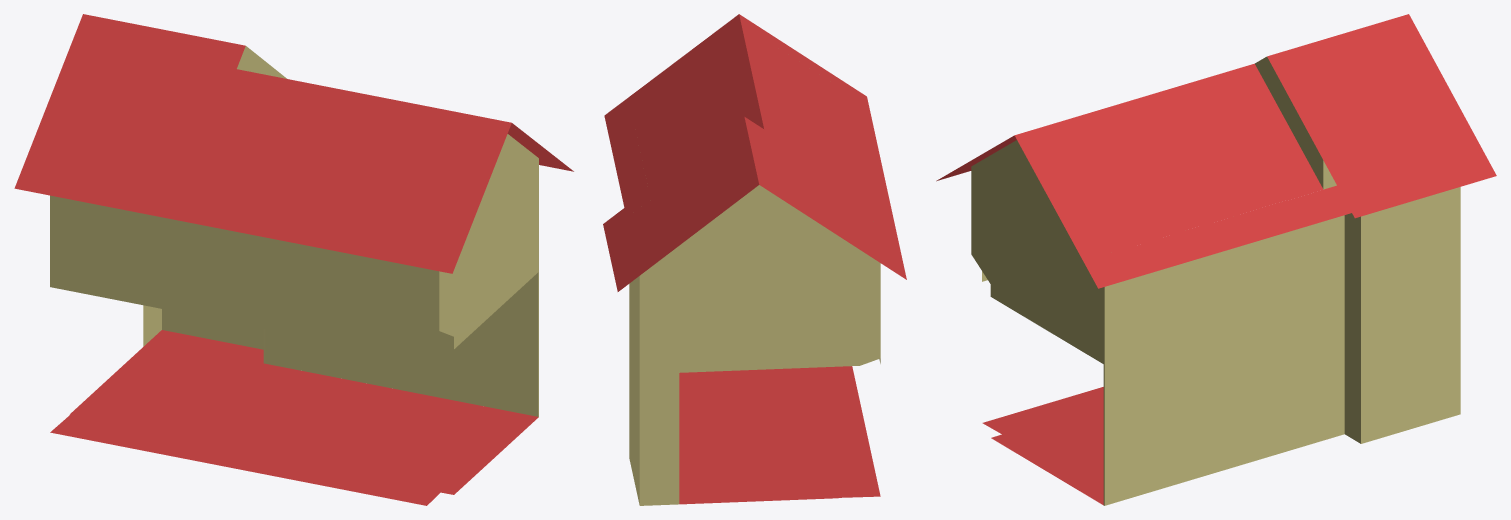
3 renders of one model, left to right at view 1: azimuth 30°, elevation 25°; view 2: azimuth 150°, elevation 25°; view 3: azimuth 270°, elevation 25°, orthographic. The views are drawn at different scales.
Visible parts, largest first — view 1: group_3, group_5, group_6, group_9, group_4, group_10, group_7; view 2: group_5, group_3, group_6, group_7, group_4, group_10, group_8; view 3: group_9, group_7, group_5, group_3, group_6, group_10, group_4, group_8.
Part boxes in pixels (x1,y1,x2,y2): group_3: (14,15,510,270); group_5: (50,46,487,367); group_6: (50,330,487,505); group_9: (288,134,538,417); group_4: (15,14,511,273); group_10: (237,368,538,463); group_7: (507,123,573,171); group_5: (629,185,880,505); group_3: (603,24,906,291); group_6: (679,366,880,504); group_7: (604,14,763,207); group_4: (603,14,906,279); group_10: (679,370,763,445); group_8: (609,16,739,113); group_9: (1035,174,1323,505); group_7: (1014,63,1351,288); group_5: (971,56,1460,443); group_3: (936,14,1496,217); group_6: (982,387,1103,464); group_10: (1036,444,1103,505); group_4: (1323,15,1408,217); group_8: (1015,130,1104,286).
Size of the model in its own units: 19.31 by 21.65 by 14.9.
